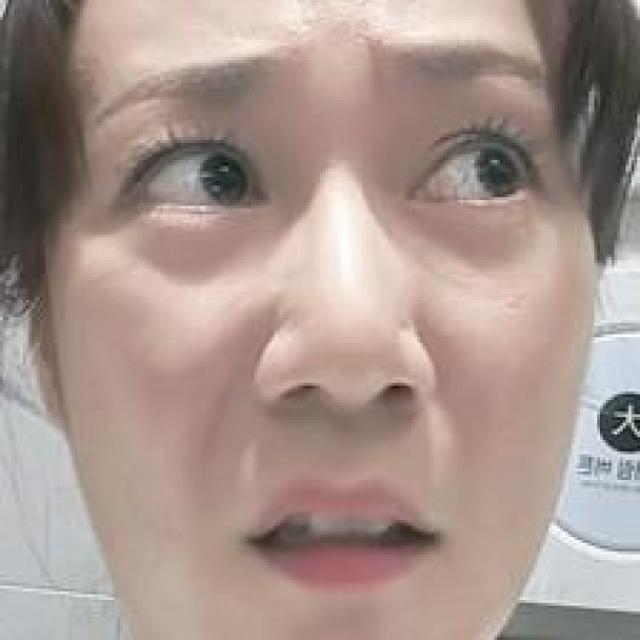fear: (92, 27, 545, 637)
